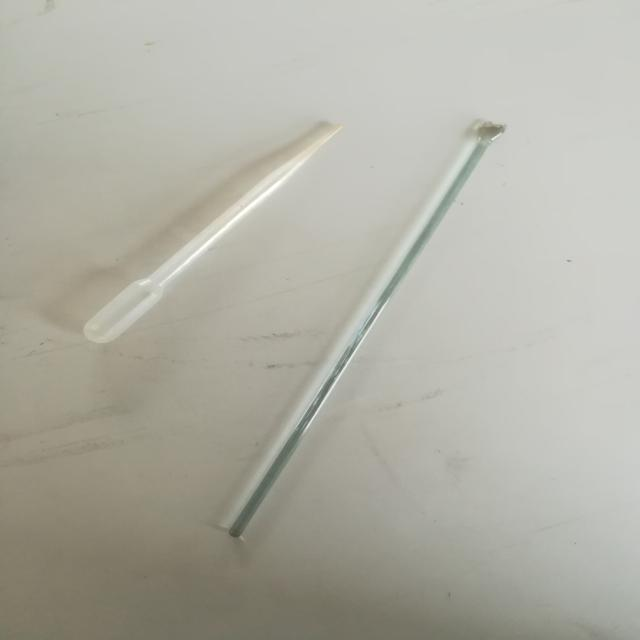Glass_Rod: (222, 92, 524, 551)
Pipette: (58, 71, 316, 371)
